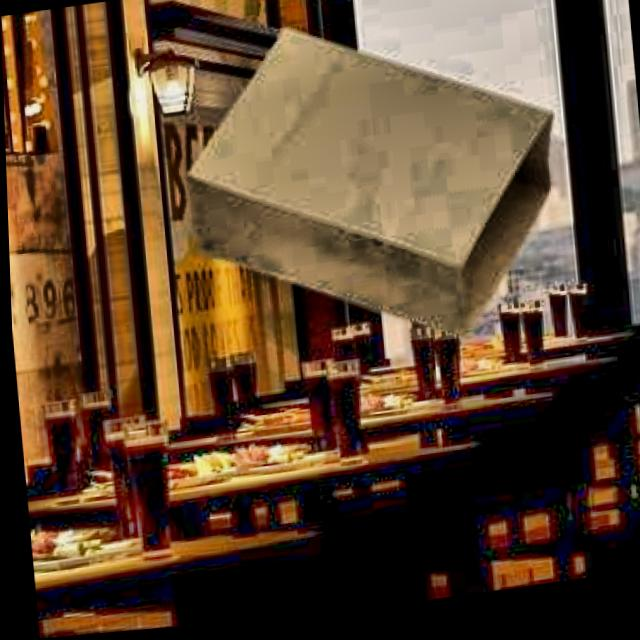Paper-bag: (153, 0, 584, 406)
